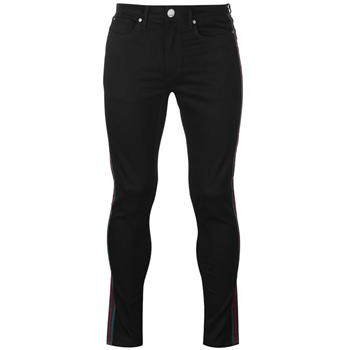jeans: (87, 1, 260, 345)
